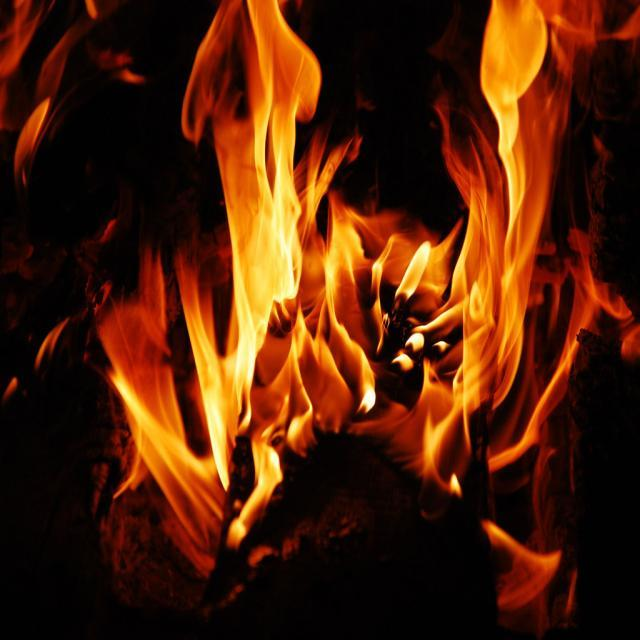Fire: (118, 316, 280, 509), (314, 215, 438, 438), (212, 17, 302, 308), (488, 8, 548, 290)
